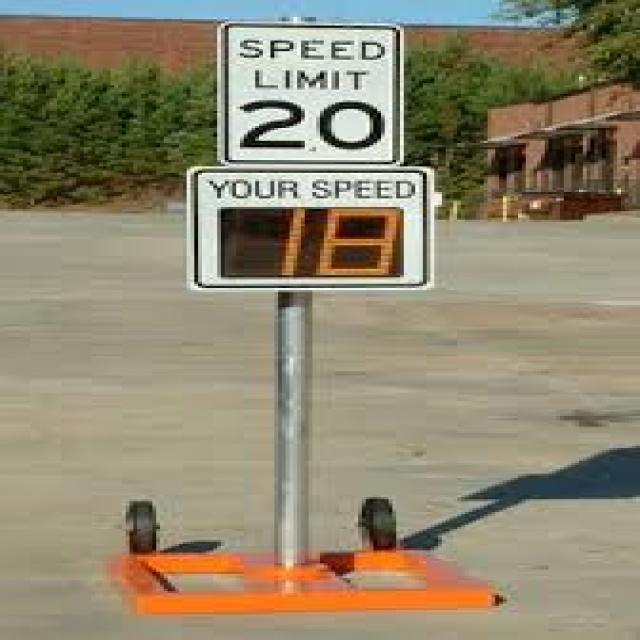speedLimit20: (219, 18, 391, 161)
